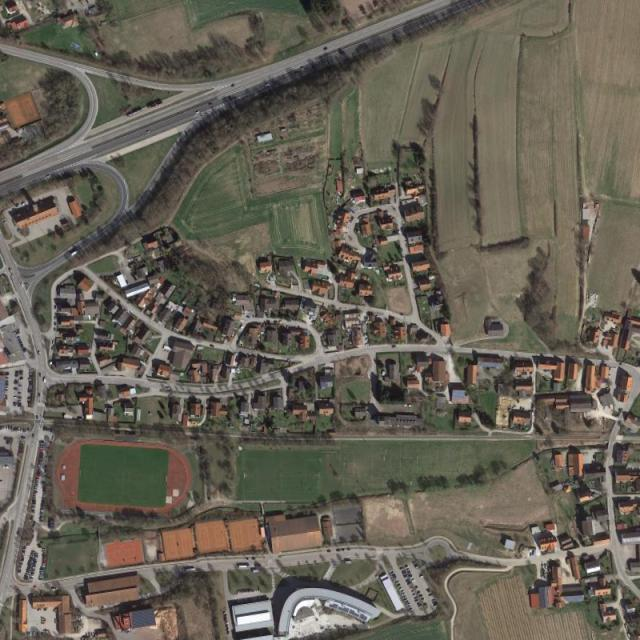vehicle: (126, 108, 143, 118), (148, 99, 162, 110), (182, 567, 196, 572), (238, 564, 251, 568), (72, 251, 78, 257), (44, 378, 46, 384)
